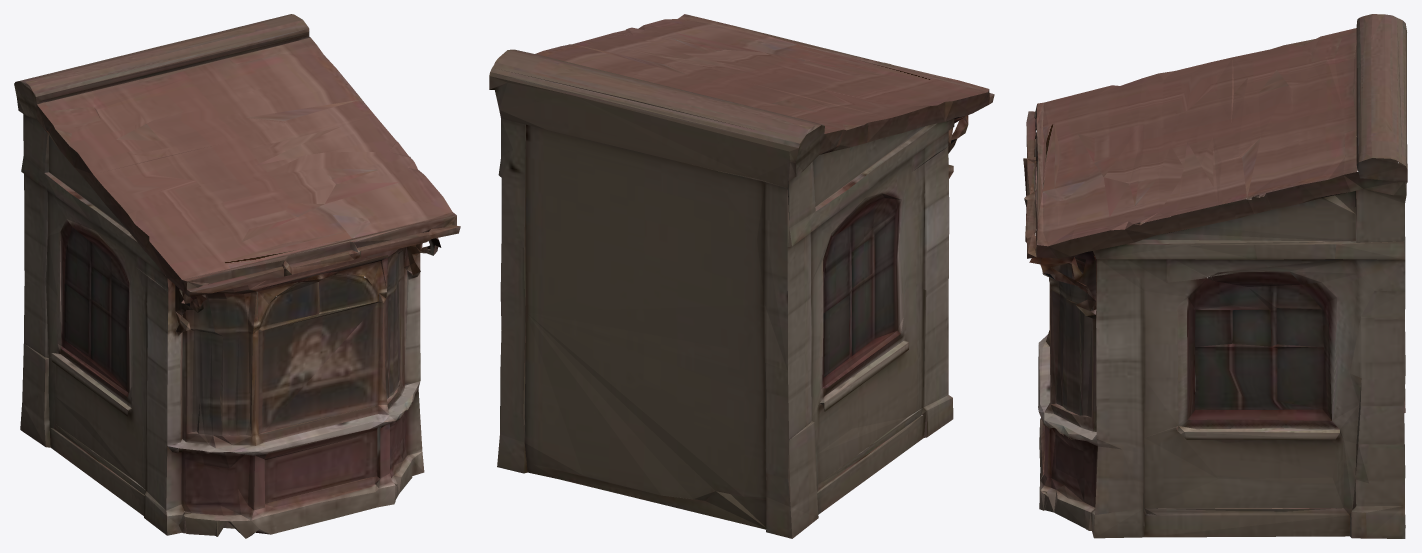
The model's file is park_doll_shop_1117.glb.
3 views of the same model, side by side, from view 1: azimuth 30°, elevation 25°; view 2: azimuth 150°, elevation 25°; view 3: azimuth 270°, elevation 25° (orthographic). The views are drawn at different scales.
Parts seen in each view (by area): view 1: world; view 2: world; view 3: world.
Boxes of the visible parts, x1,y1,x2,y2 form: world: (14,14,460,538); world: (489,14,994,538); world: (1023,14,1407,538).
Size of the model in its own units: 0.8087 by 1 by 0.9042.
1 material, 1 textured.
